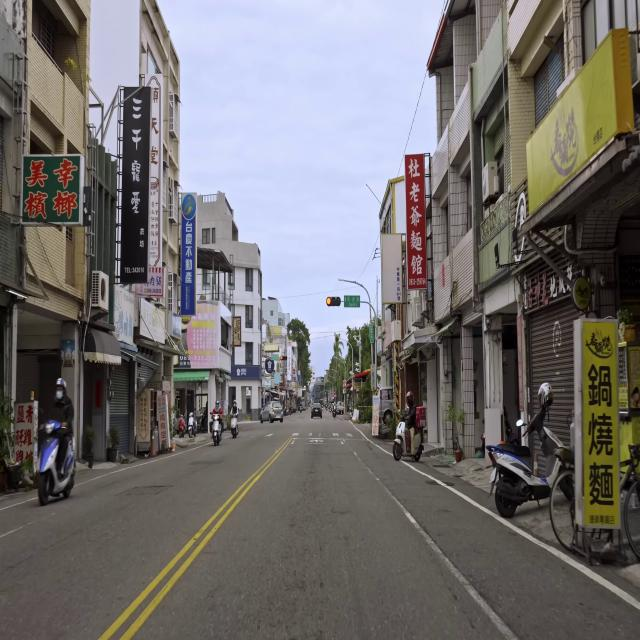red light: (326, 296, 341, 306), (280, 356, 288, 360)
